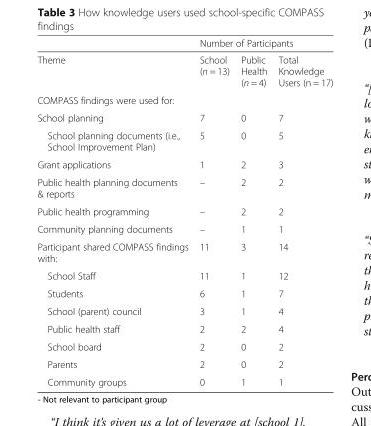table: (36, 37, 332, 387)
table column: (36, 37, 193, 387), (272, 37, 332, 387), (193, 37, 234, 387), (234, 37, 272, 387)
table column header: (36, 37, 332, 90)
table projected row header: (36, 90, 332, 108)
table row: (36, 50, 332, 90), (36, 126, 332, 155), (36, 173, 332, 202), (36, 237, 332, 266), (36, 90, 332, 108), (36, 108, 332, 126), (36, 155, 332, 173), (36, 219, 332, 237), (36, 266, 332, 284), (36, 284, 332, 302), (36, 319, 332, 337), (36, 337, 332, 355), (36, 202, 332, 219), (36, 302, 332, 319), (36, 355, 332, 372), (36, 372, 332, 387), (36, 37, 332, 50)
table spanning cell: (36, 37, 193, 90), (193, 37, 332, 50)
